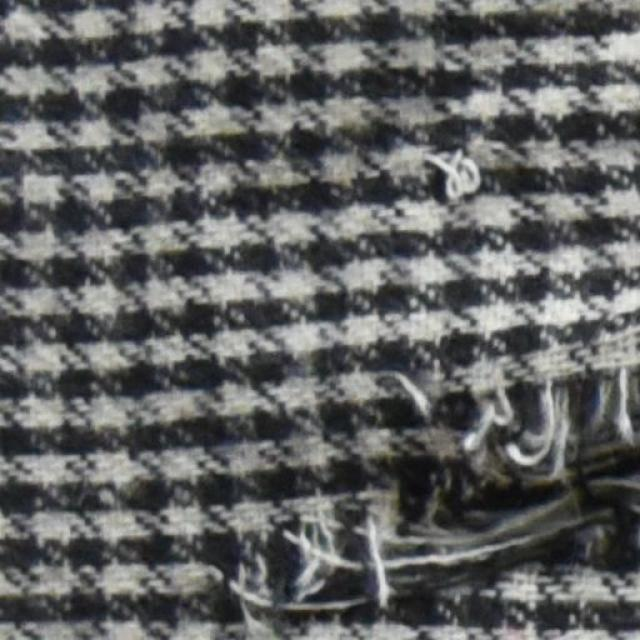Snag: (217, 340, 639, 634), (418, 140, 496, 216)
